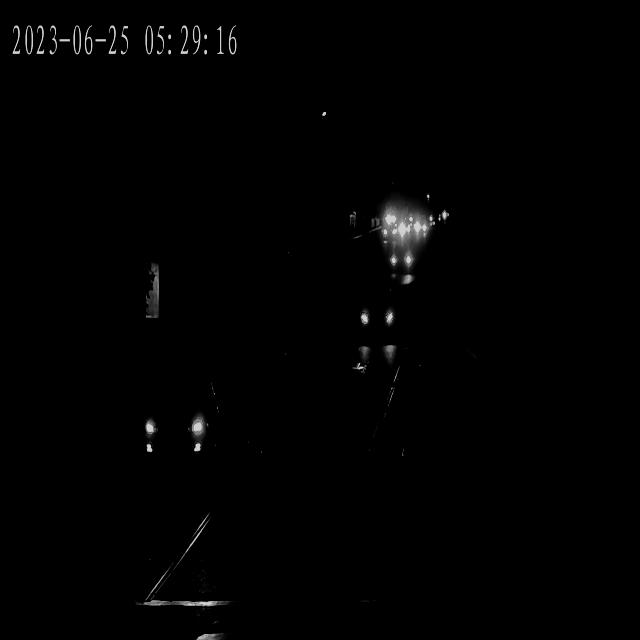Car: (141, 369, 222, 485), (356, 286, 398, 348), (388, 238, 418, 280), (396, 214, 412, 239), (416, 222, 431, 244), (382, 225, 398, 244)
